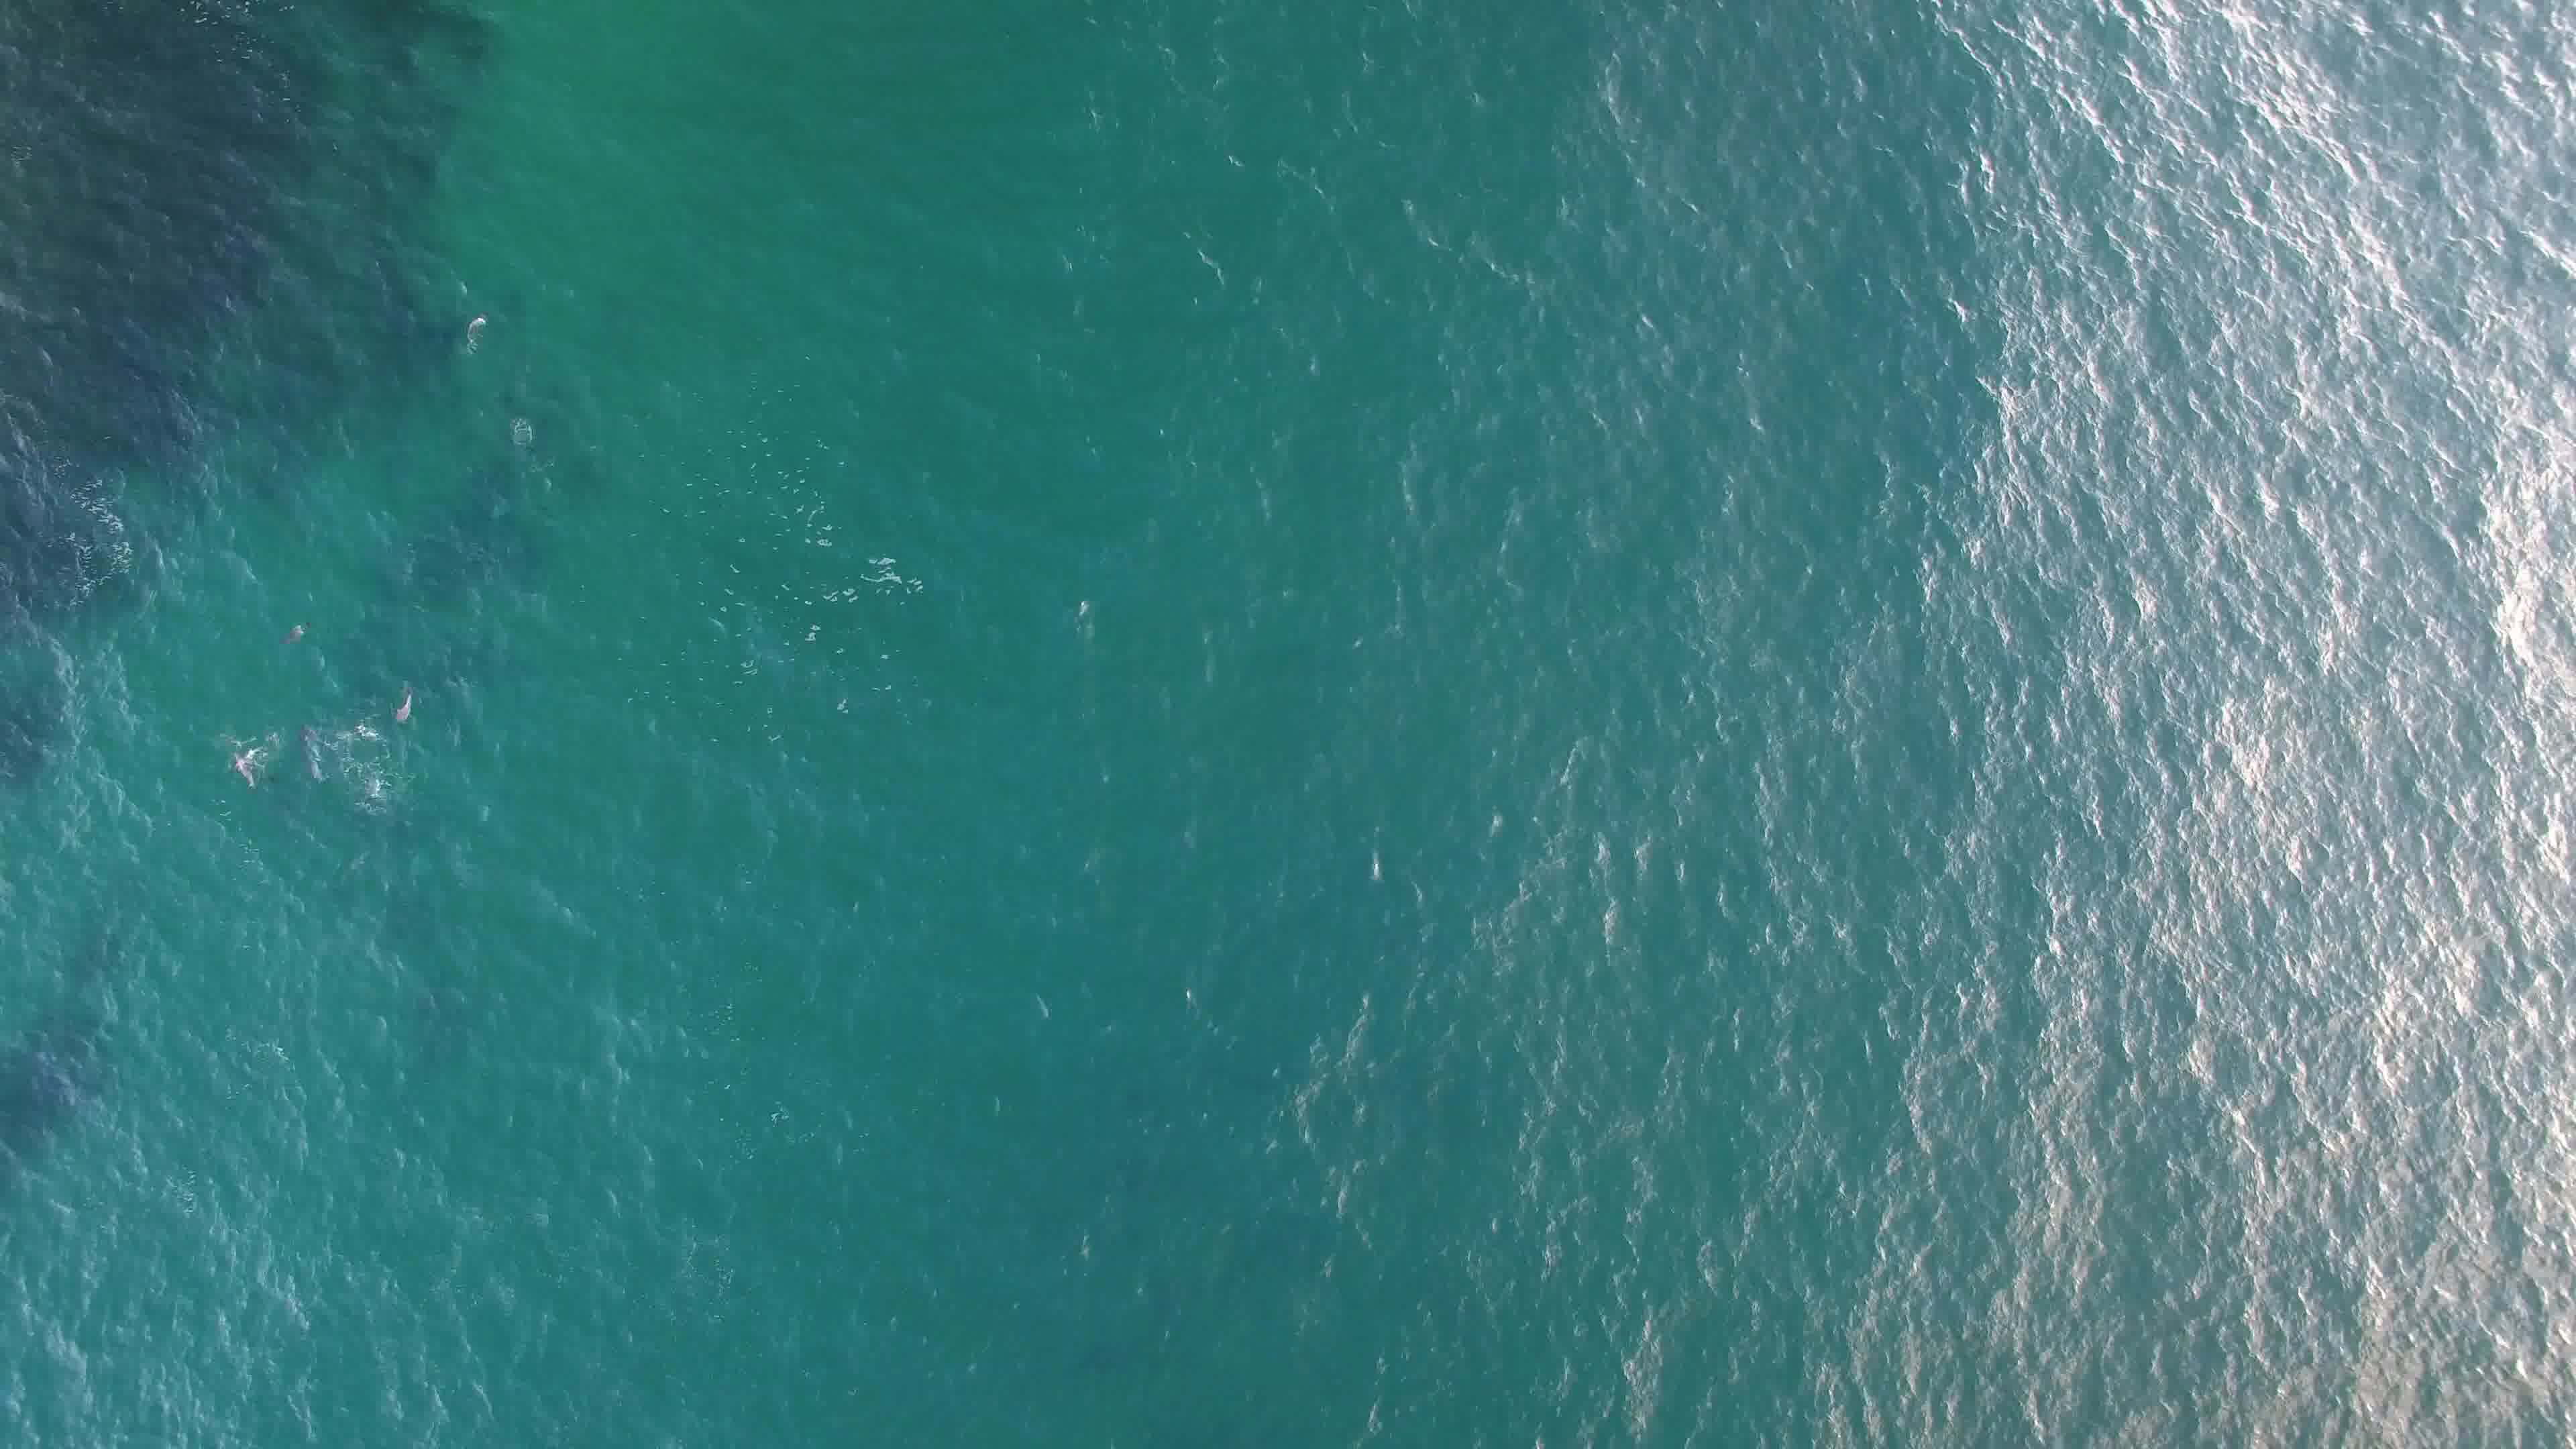dolphin: (294, 713, 333, 791), (272, 612, 326, 660), (228, 731, 269, 787), (387, 676, 421, 729)
